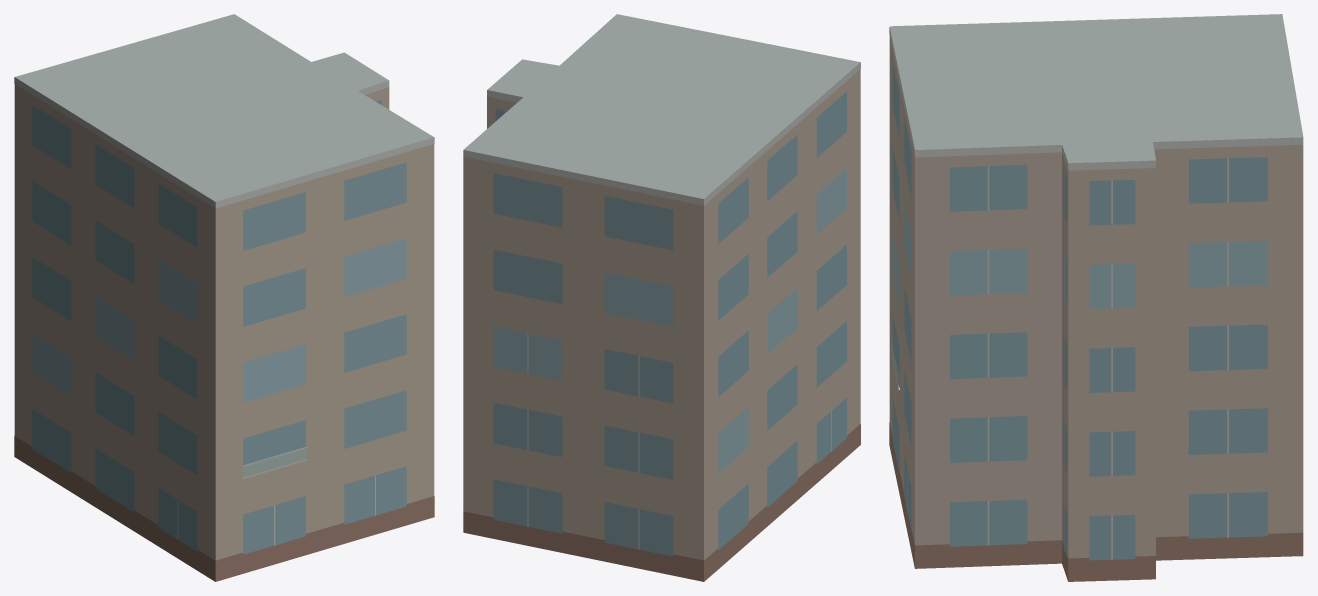
File: survey-upis-32696400.glb
3 renders of one model, left to right at view 1: azimuth 30°, elevation 25°; view 2: azimuth 150°, elevation 25°; view 3: azimuth 270°, elevation 25°, orthographic. The views are drawn at different scales.
Visible parts, largest first — view 1: survey-upis-32696400.tmp; view 2: survey-upis-32696400.tmp; view 3: survey-upis-32696400.tmp.
Part boxes in pixels (x1=…): survey-upis-32696400.tmp: x1=14, y1=14, x2=434, y2=581; survey-upis-32696400.tmp: x1=463, y1=14, x2=860, y2=581; survey-upis-32696400.tmp: x1=889, y1=14, x2=1303, y2=581.
Bounding box in the file's own units: 10.64 × 13.9 × 12.47.
